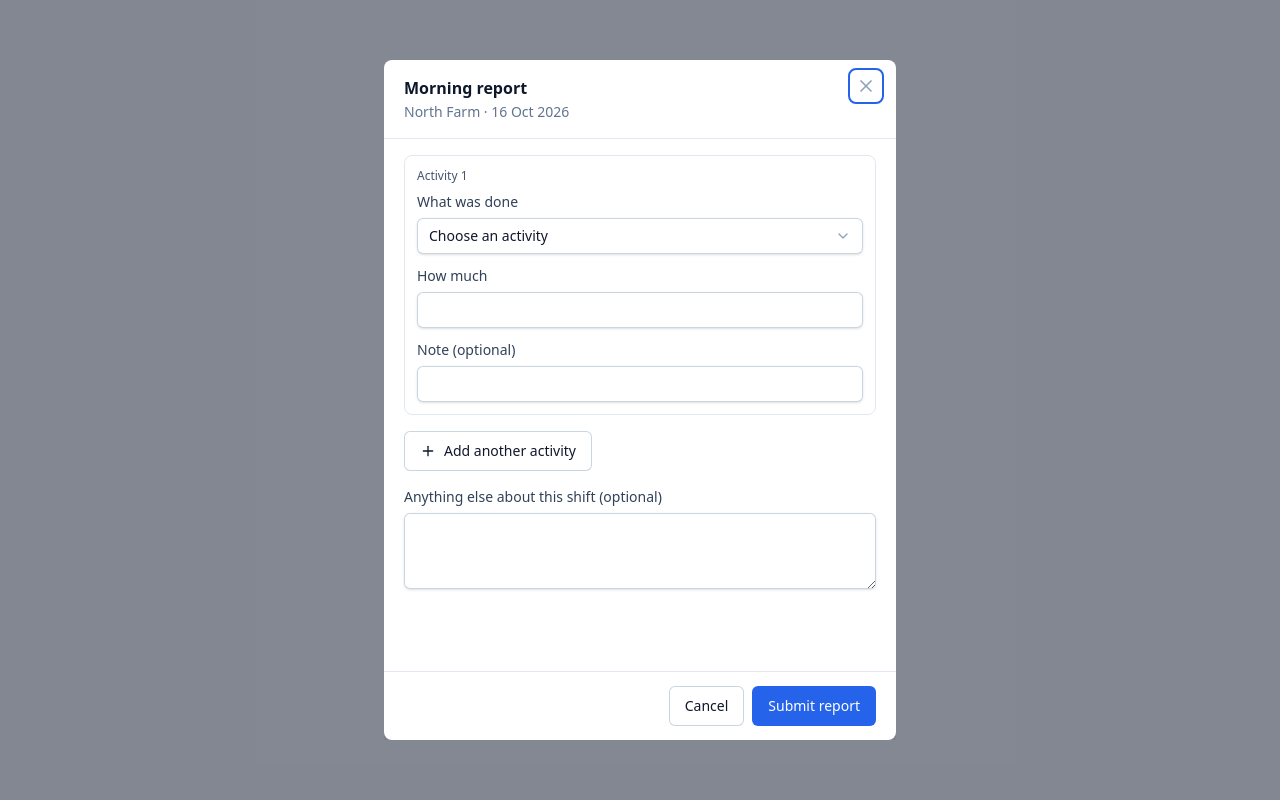
Test: field report submission › refuses the same activity twice in one report
Select "Harvesting (kg)" in the dropdown labelled "What was done" at [640, 236], box x1=417 y1=218 x2=863 y2=254
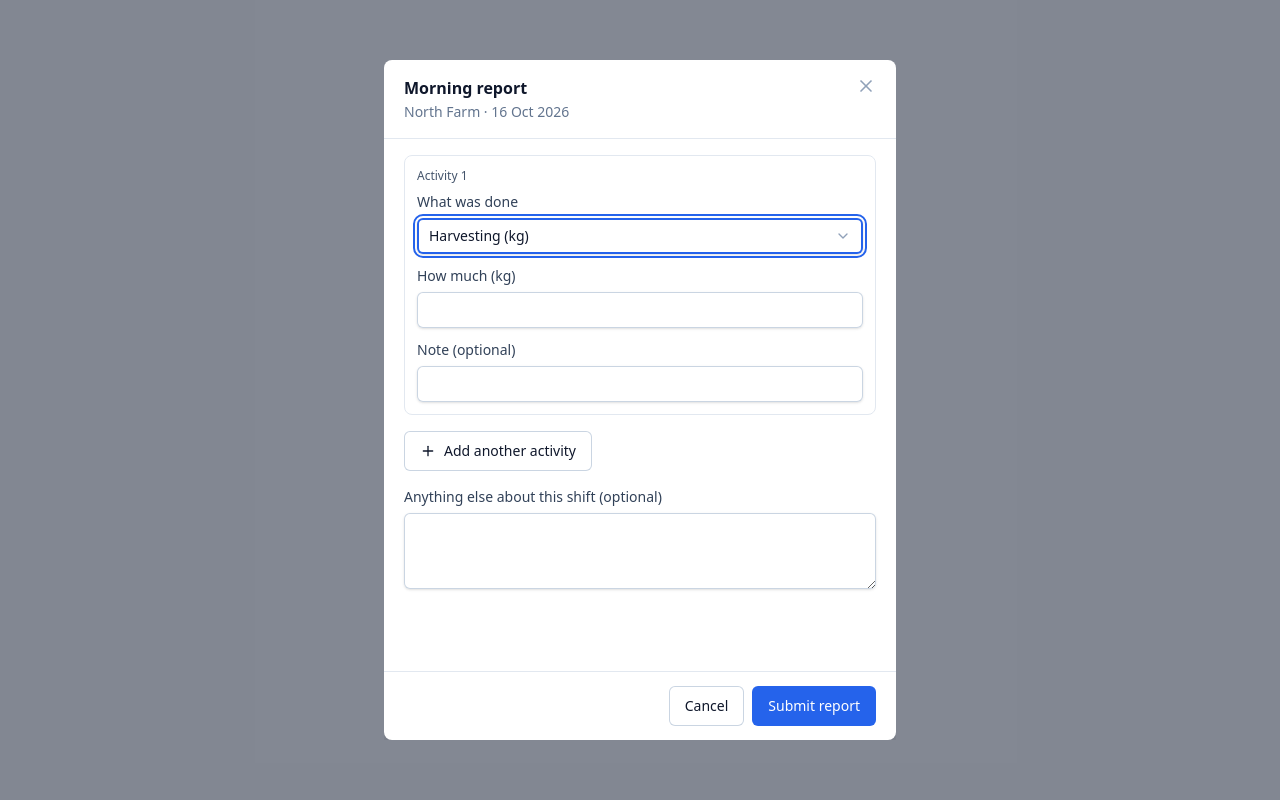
Type "10" into the number field labelled "How much (kg)" at [640, 310], box x1=417 y1=292 x2=863 y2=328
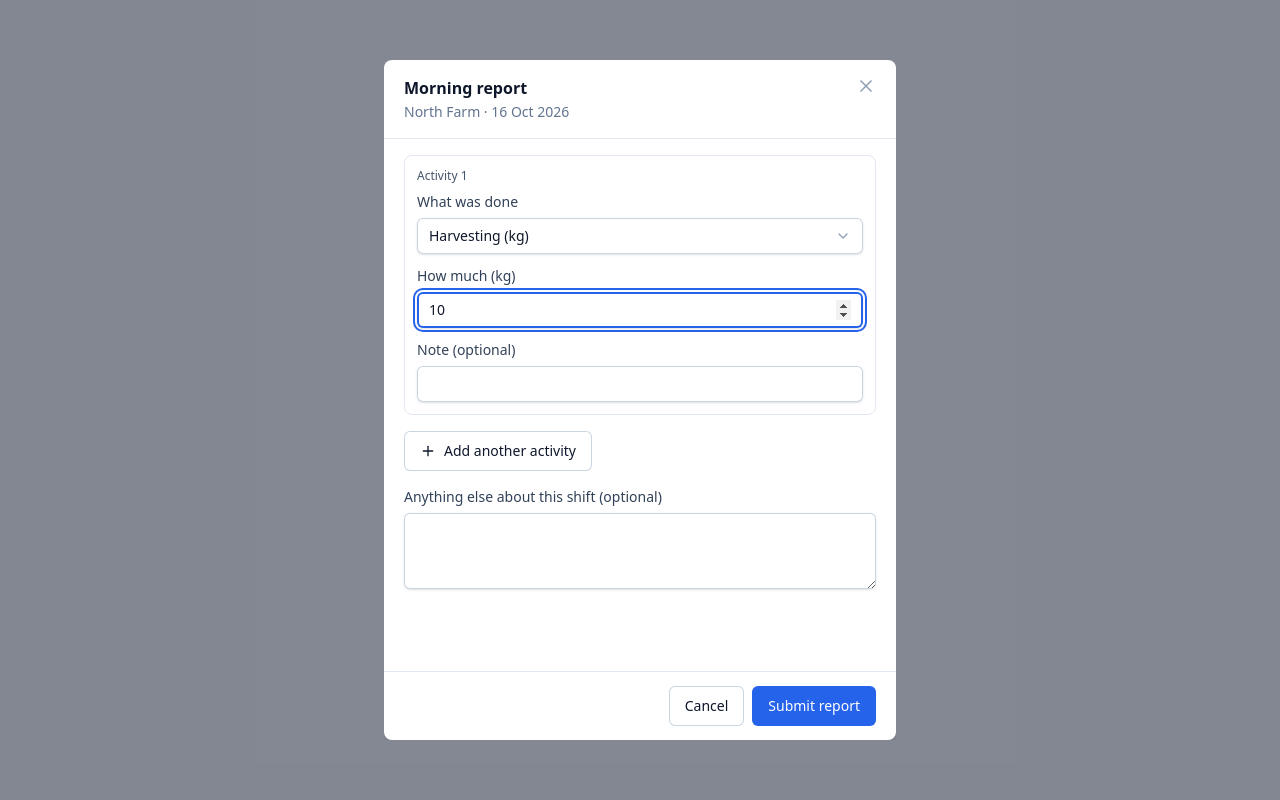
Click the button "Add another activity" at [498, 451], box x1=404 y1=431 x2=592 y2=471
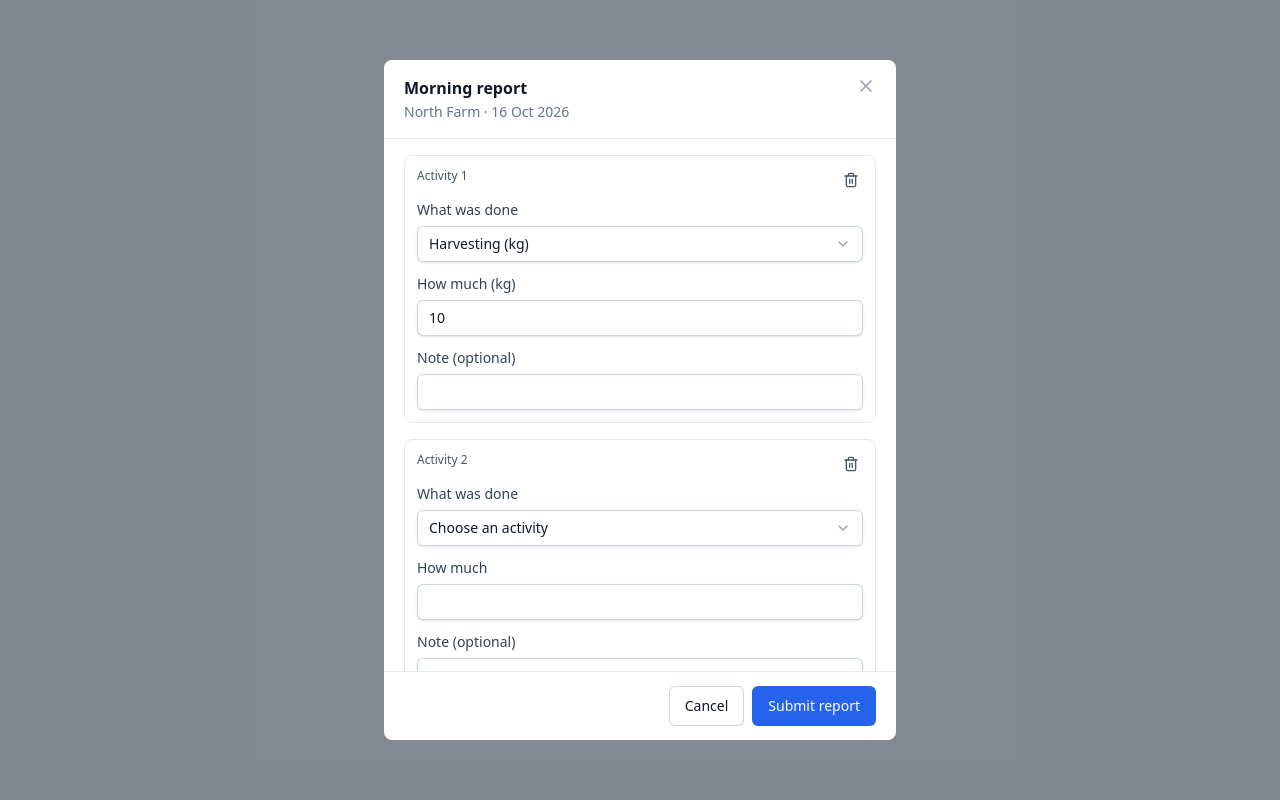
Select "Harvesting (kg)" in the 2nd dropdown labelled "What was done" at [640, 528], box x1=417 y1=510 x2=863 y2=546
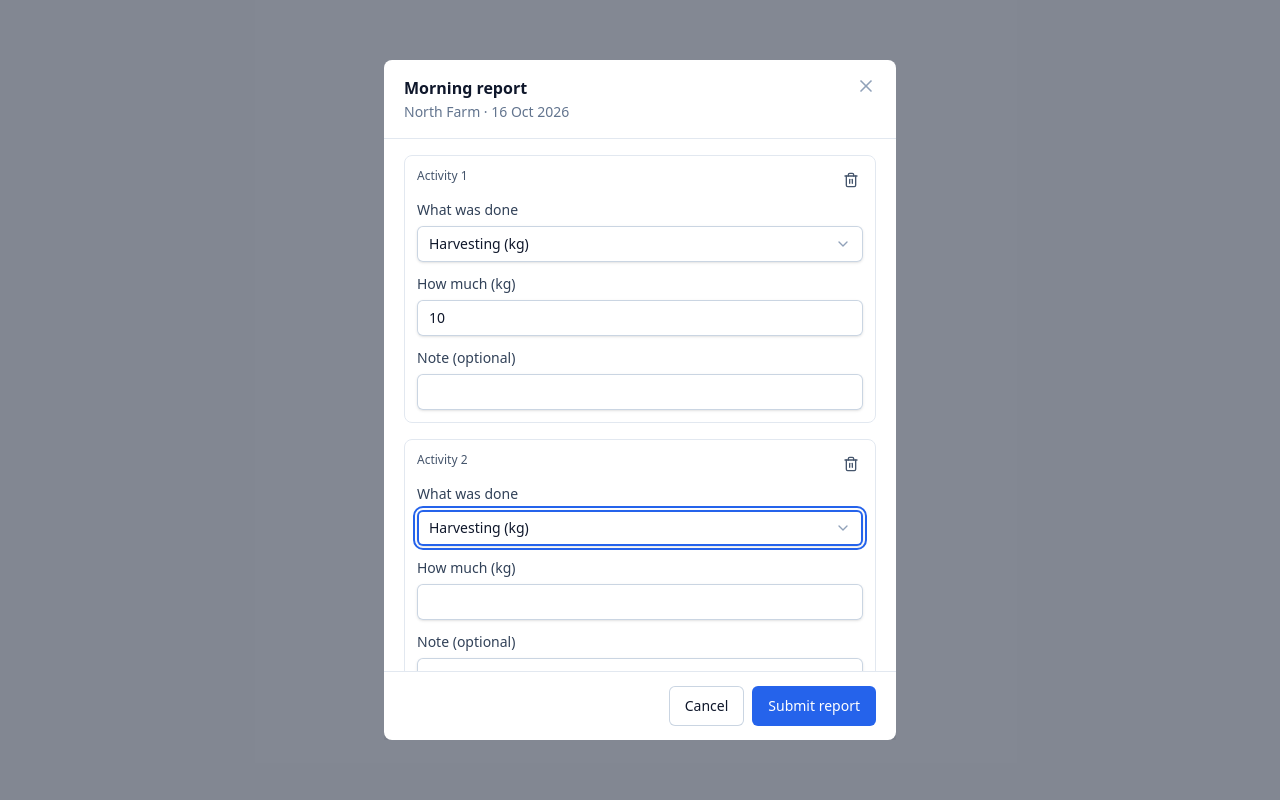
Type "5" into the 2nd number field labelled "How much (kg)" at [640, 602], box x1=417 y1=584 x2=863 y2=620
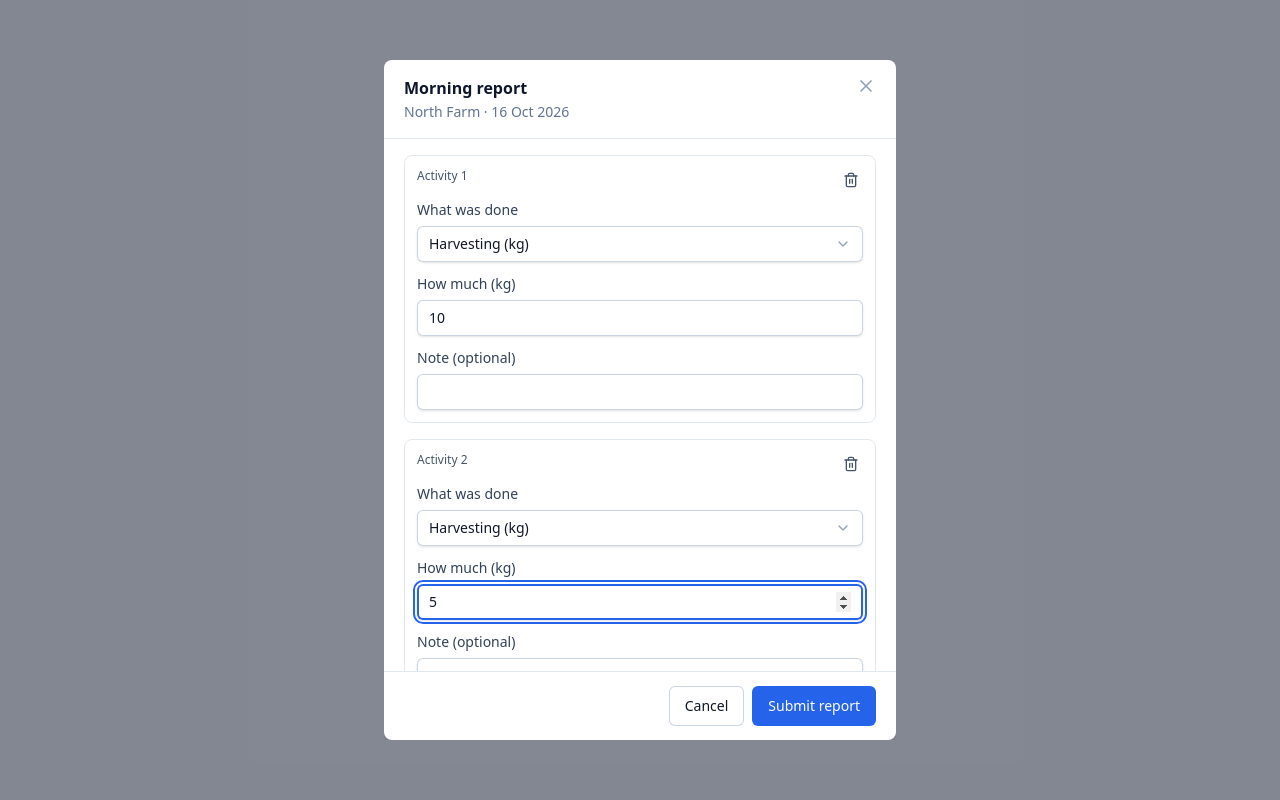
Click the button "Submit report" at [814, 706], box x1=752 y1=686 x2=876 y2=726
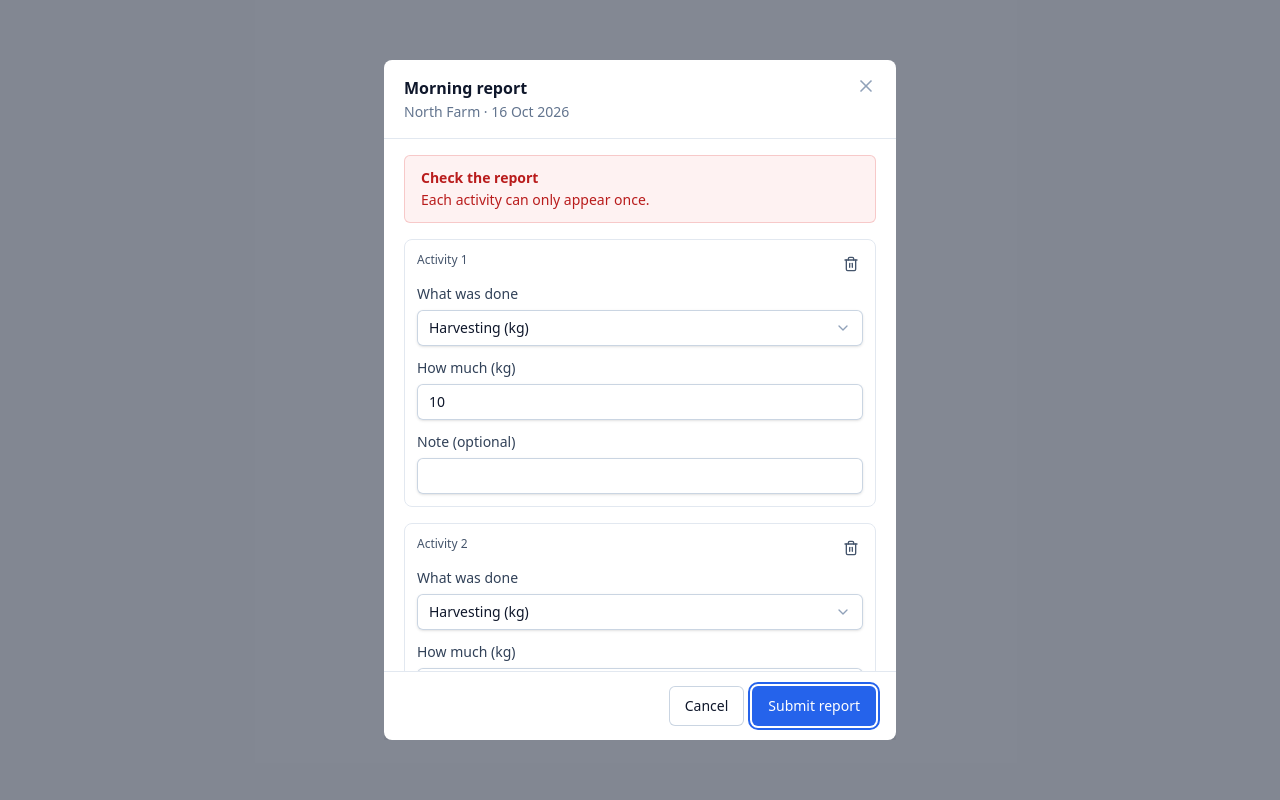
Now the text "Each activity can only appear once." is shown, box x1=421 y1=190 x2=650 y2=209
